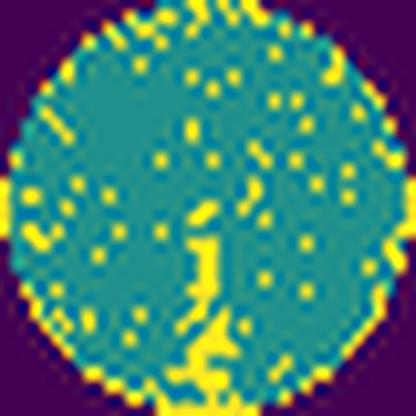Loc: (163, 308, 241, 413), (174, 238, 215, 338)
